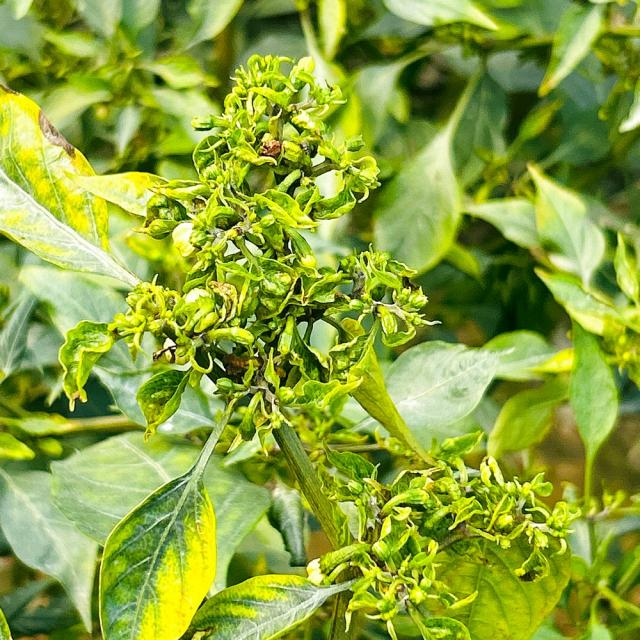Chilli_Leaf_Curl: (1, 50, 583, 638), (57, 51, 442, 458), (309, 447, 577, 638), (96, 392, 241, 638), (0, 83, 171, 289)
